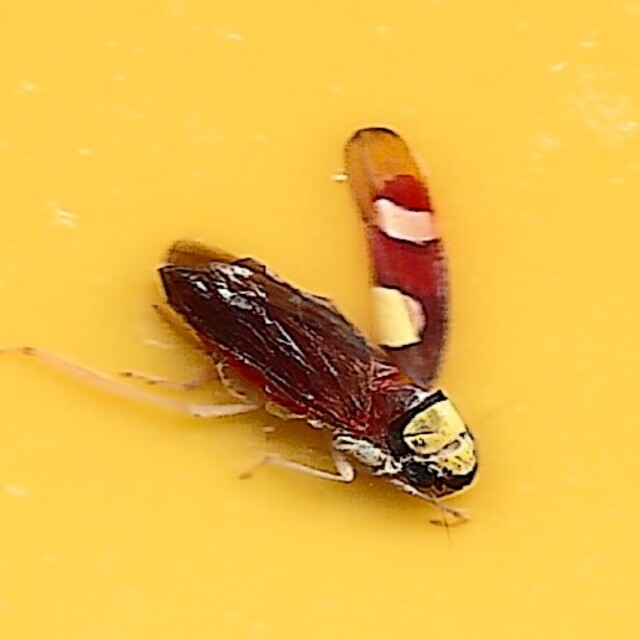Hemiptera: (149, 124, 491, 516)
